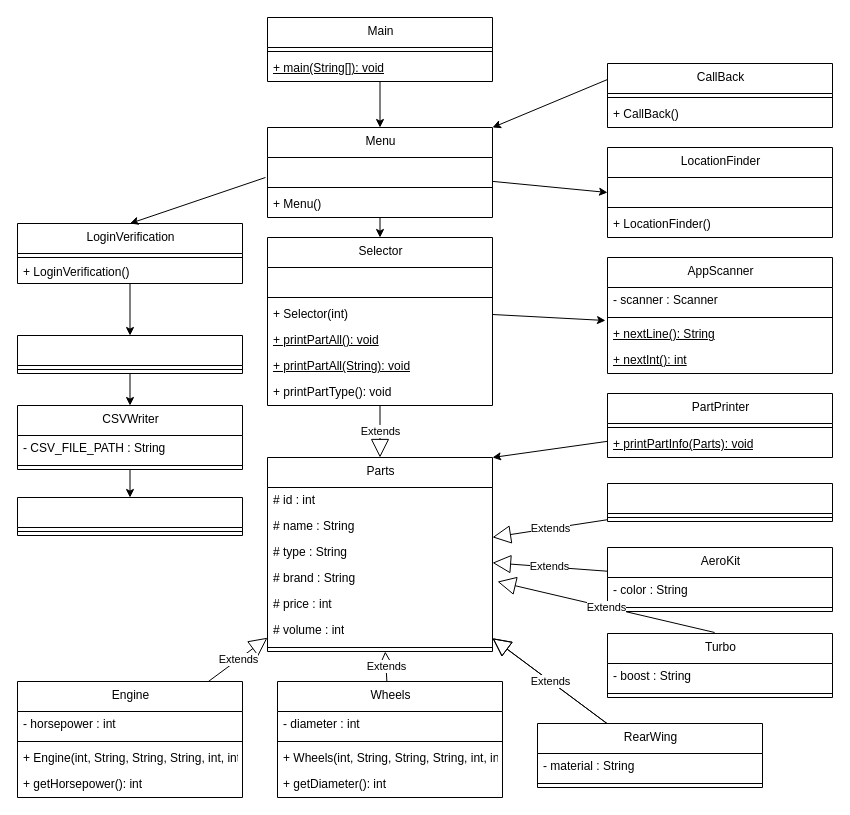
Image size: 850x815. Some labels were removed from this diagram. Each missing label, with the centre of its shape:
"AdminPanel" goes at point (129, 354).
"Ecu" goes at point (719, 502).
"UniqueStringGenerator" goes at point (129, 516).
